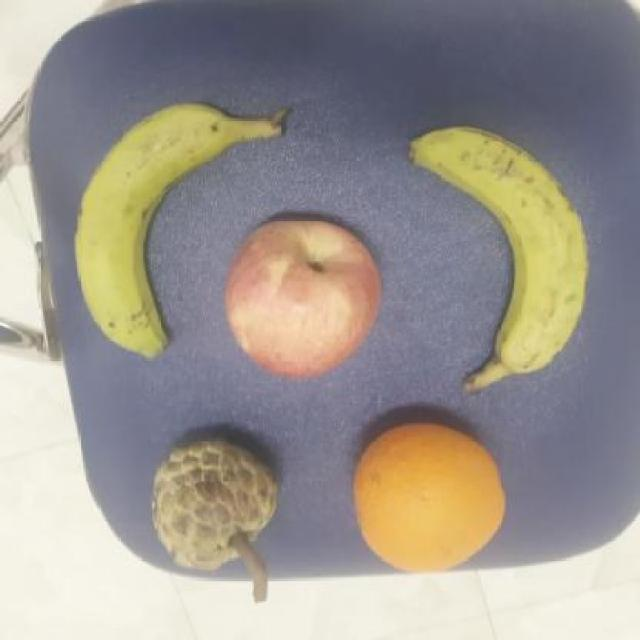apple: (216, 215, 398, 384)
banana: (74, 106, 298, 366), (409, 124, 596, 391)
oren: (353, 419, 509, 576)
sugar apple: (150, 435, 275, 574)
